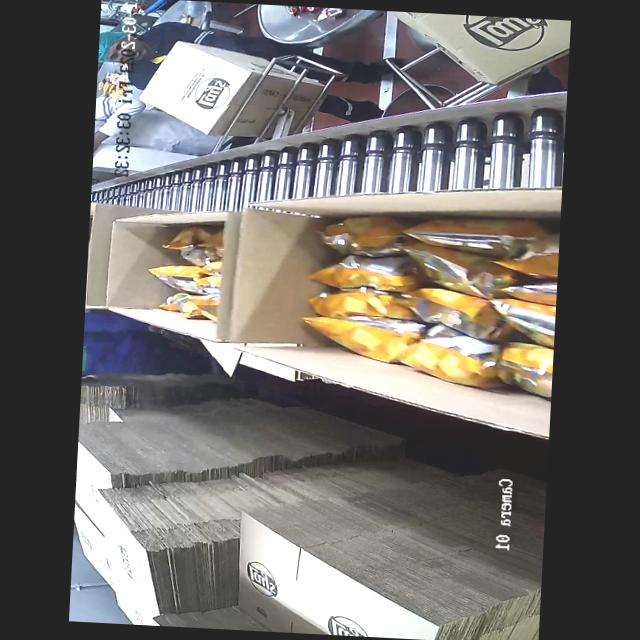cheese: (300, 212, 560, 399), (148, 222, 229, 314)
